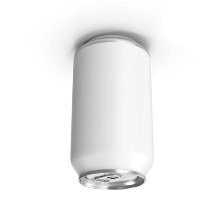can: (65, 27, 159, 197)
